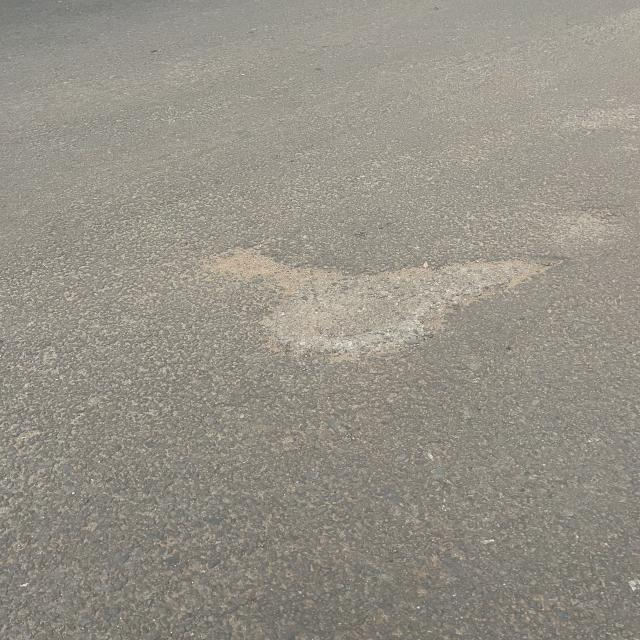D40: (165, 218, 596, 384)
D43: (123, 504, 336, 618)
